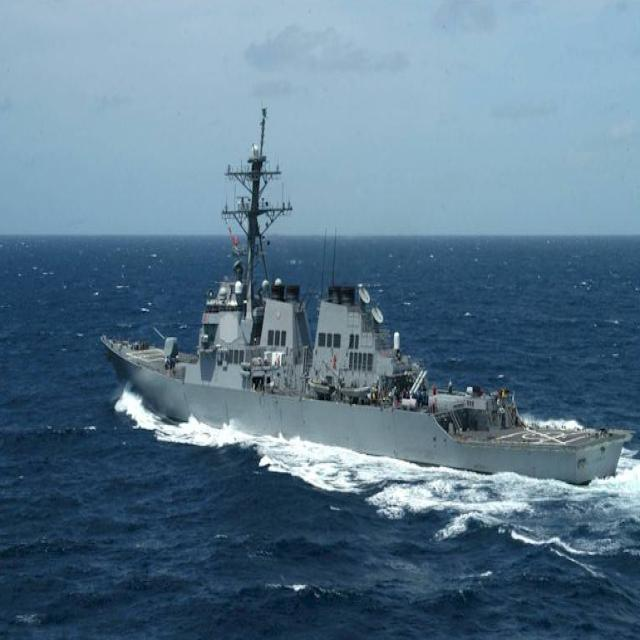navalvessels: (98, 94, 630, 483)
